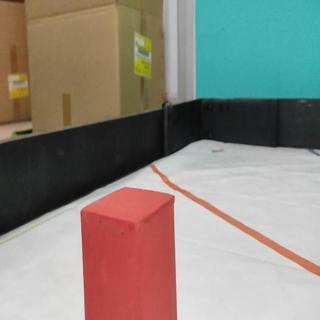redbox: (81, 186, 177, 320)
